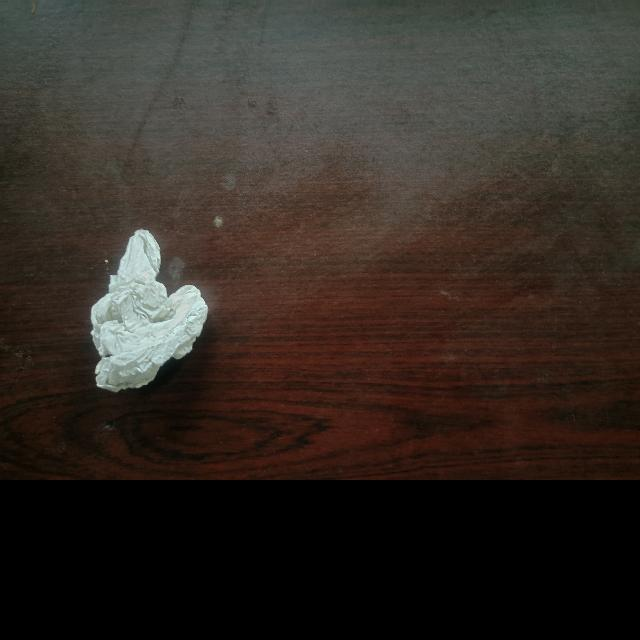kitchen paper: (85, 224, 215, 402)
